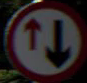Two way: (22, 14, 71, 66)
